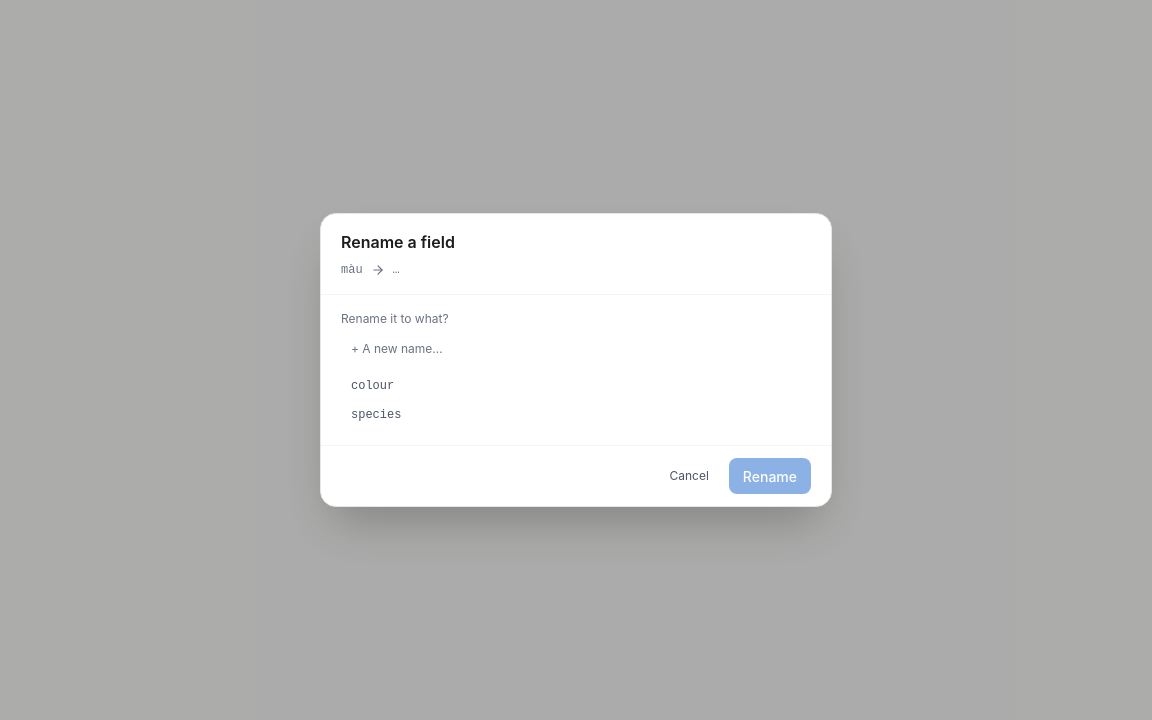
merging one field into another › names the nodes it is going to leave alone
This screenshot has width=1152, height=720.
Click the button "colour" at (373, 386), box [341,372,811,400]
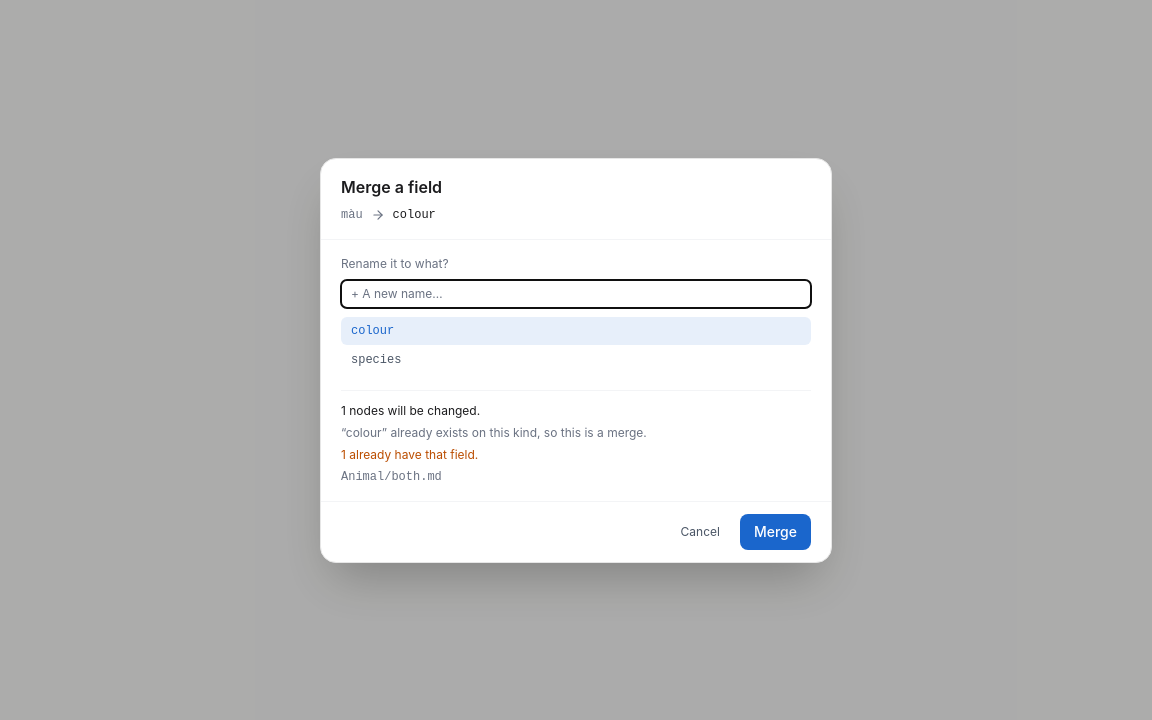
Expected: the text "1 already have that field." is shown, [341,446,478,462]
Expected: the text "Animal/both.md" is shown, [341,470,442,484]
